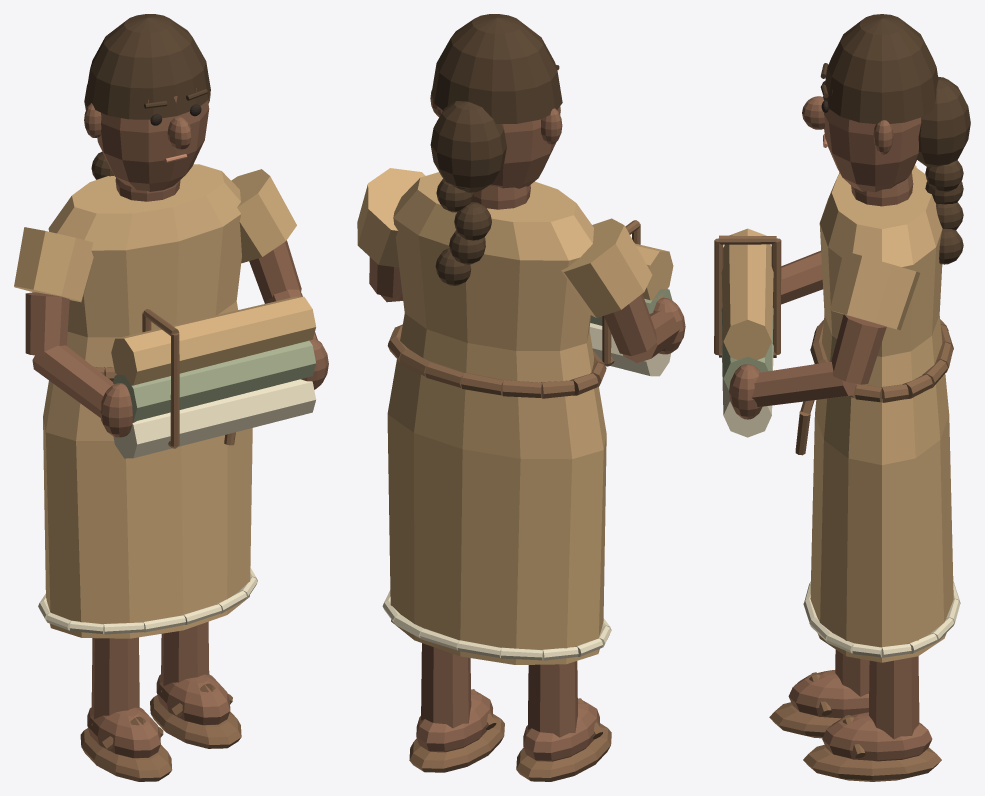
3 renders of one model, left to right at view 1: azimuth 30°, elevation 25°; view 2: azimuth 150°, elevation 25°; view 3: azimuth 270°, elevation 25°, orthographic. The views are drawn at different scales.
Parts seen in each view (by area): view 1: BA-0084 Cloth and yarn seller batched; view 2: BA-0084 Cloth and yarn seller batched; view 3: BA-0084 Cloth and yarn seller batched.
Part boxes in pixels (<box>): BA-0084 Cloth and yarn seller batched: <box>14,14,328,781</box>; BA-0084 Cloth and yarn seller batched: <box>357,14,685,781</box>; BA-0084 Cloth and yarn seller batched: <box>714,14,970,781</box>.
Size of the model in its own units: 0.6728 by 1.69 by 0.535.
